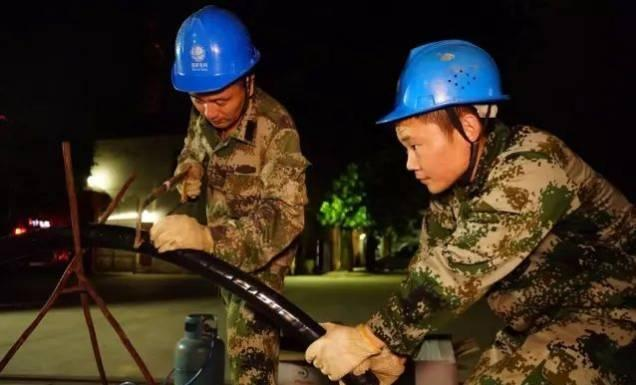Helmet: (384, 39, 504, 185), (172, 8, 258, 119)
